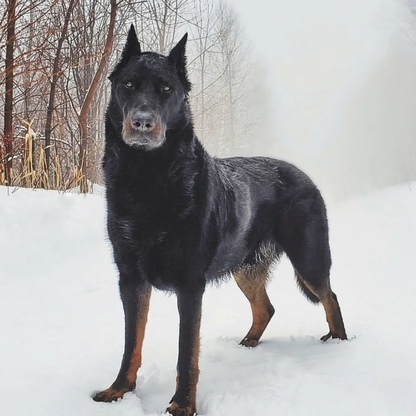doberman: (95, 21, 354, 401)
